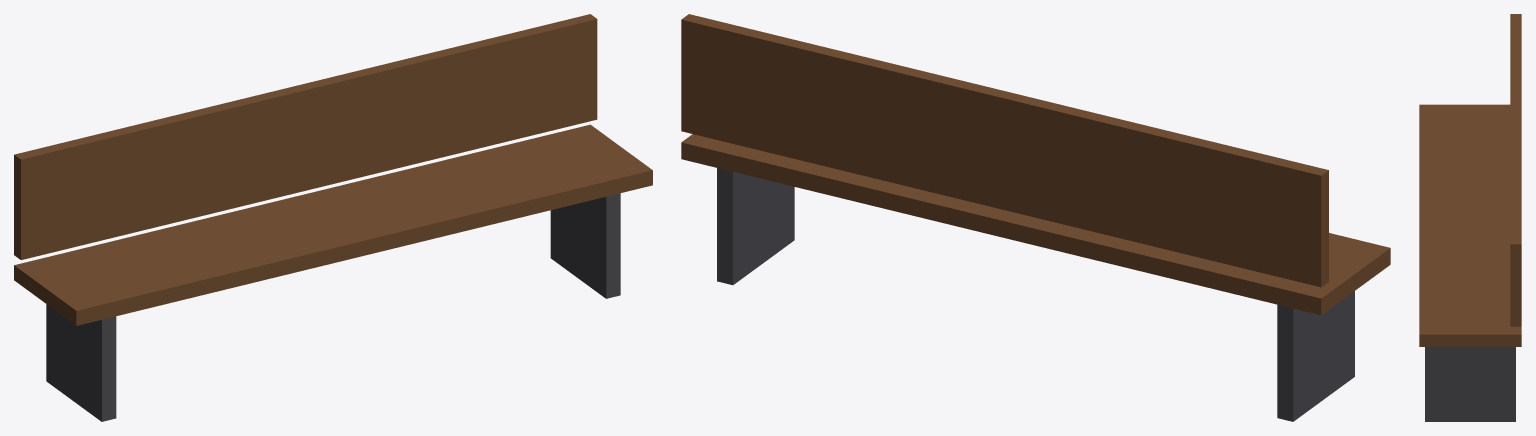
File: bench.glb
3 views of the same model, side by side, from view 1: azimuth 30°, elevation 25°; view 2: azimuth 150°, elevation 25°; view 3: azimuth 270°, elevation 25° (orthographic). The views are drawn at different scales.
Parts seen in each view (by area): view 1: bench; view 2: bench; view 3: bench.
Boxes of the visible parts, x1,y1,x2,y2 form: bench: (14, 14, 652, 421); bench: (681, 14, 1390, 421); bench: (1419, 14, 1521, 421).
Size of the model in its own units: 2.4 by 0.92 by 0.45.
